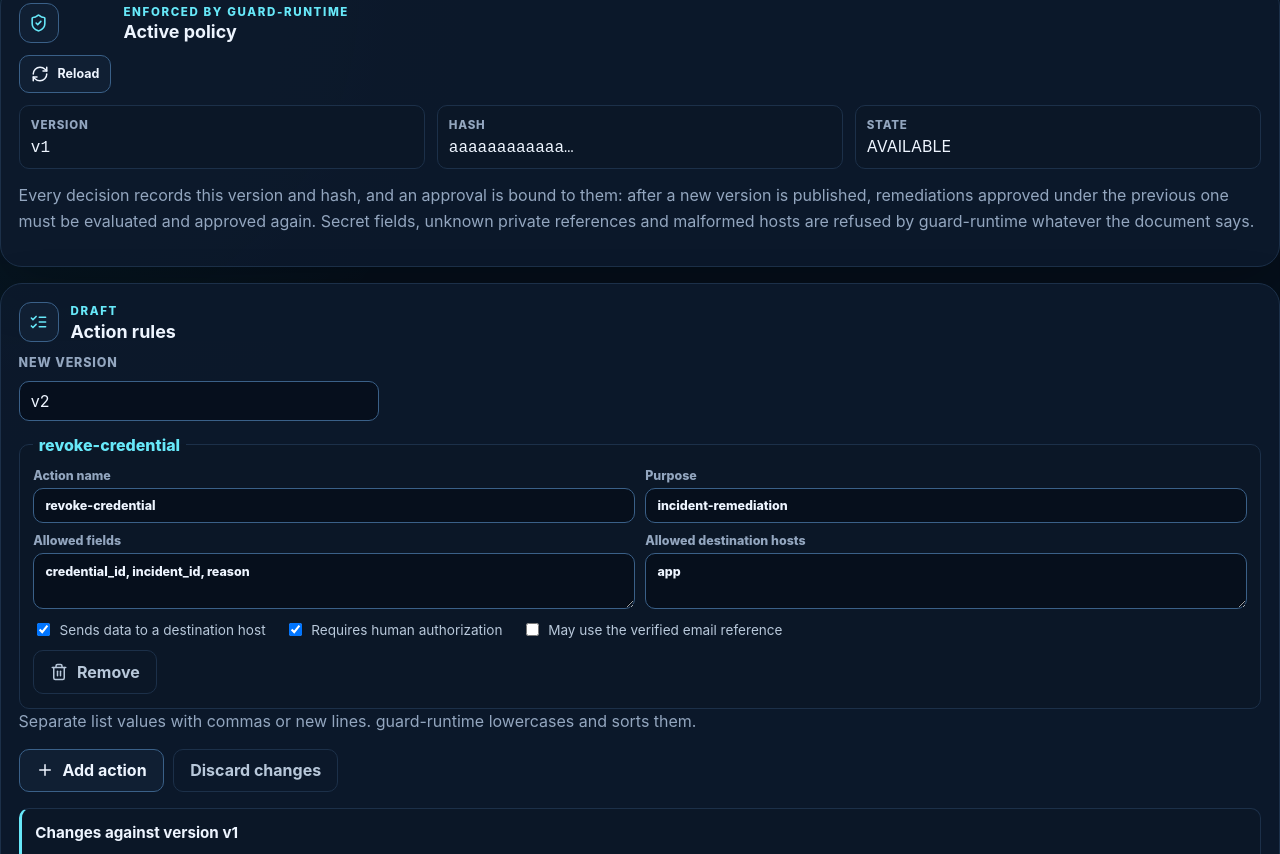
Test: PolicyEditor › shows the runtime reason when a change is refused
Step 1. Type ", api_key" into the text box labelled "Allowed fields" → (334, 581), box [33,553,635,609]
(page scrolled)
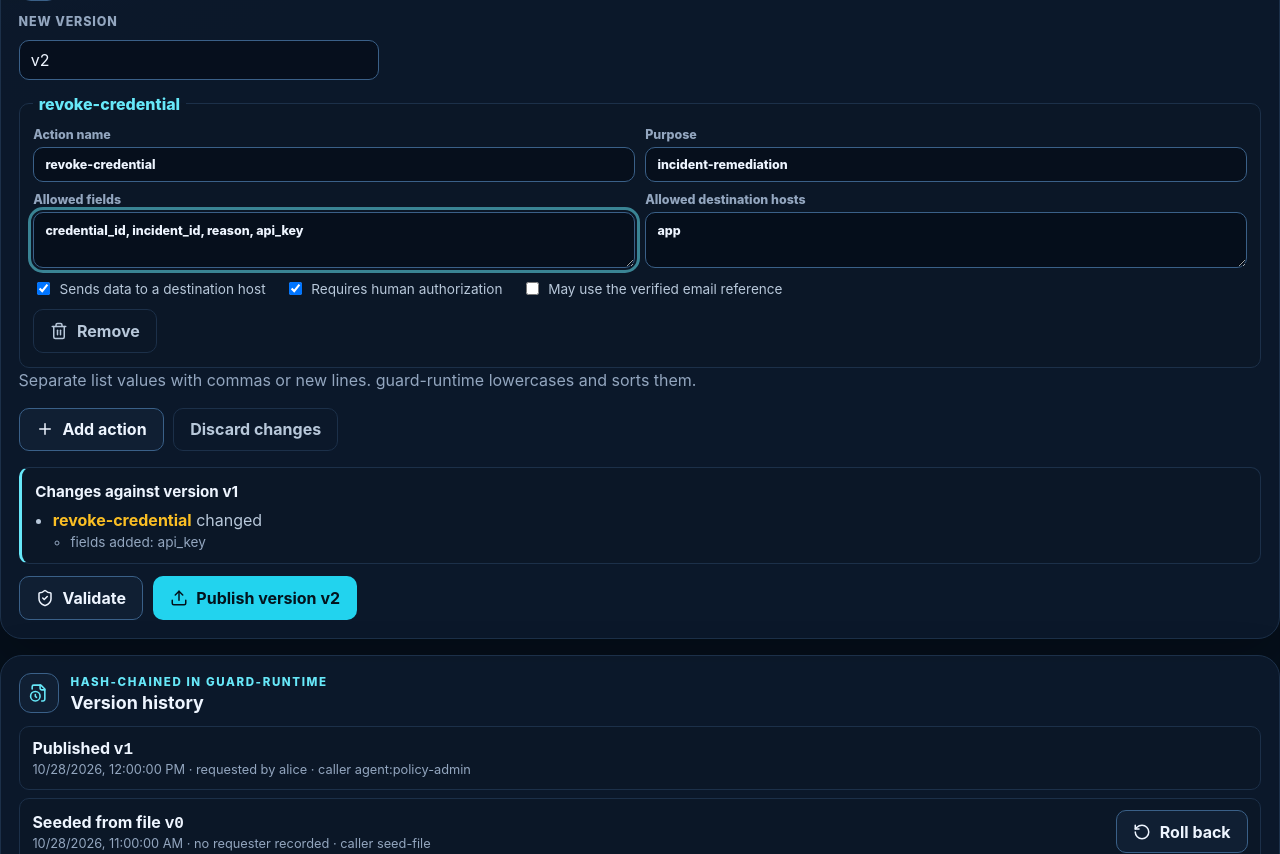
Step 2. Click the button "Validate" → click(81, 598), box [19,576,143,620]
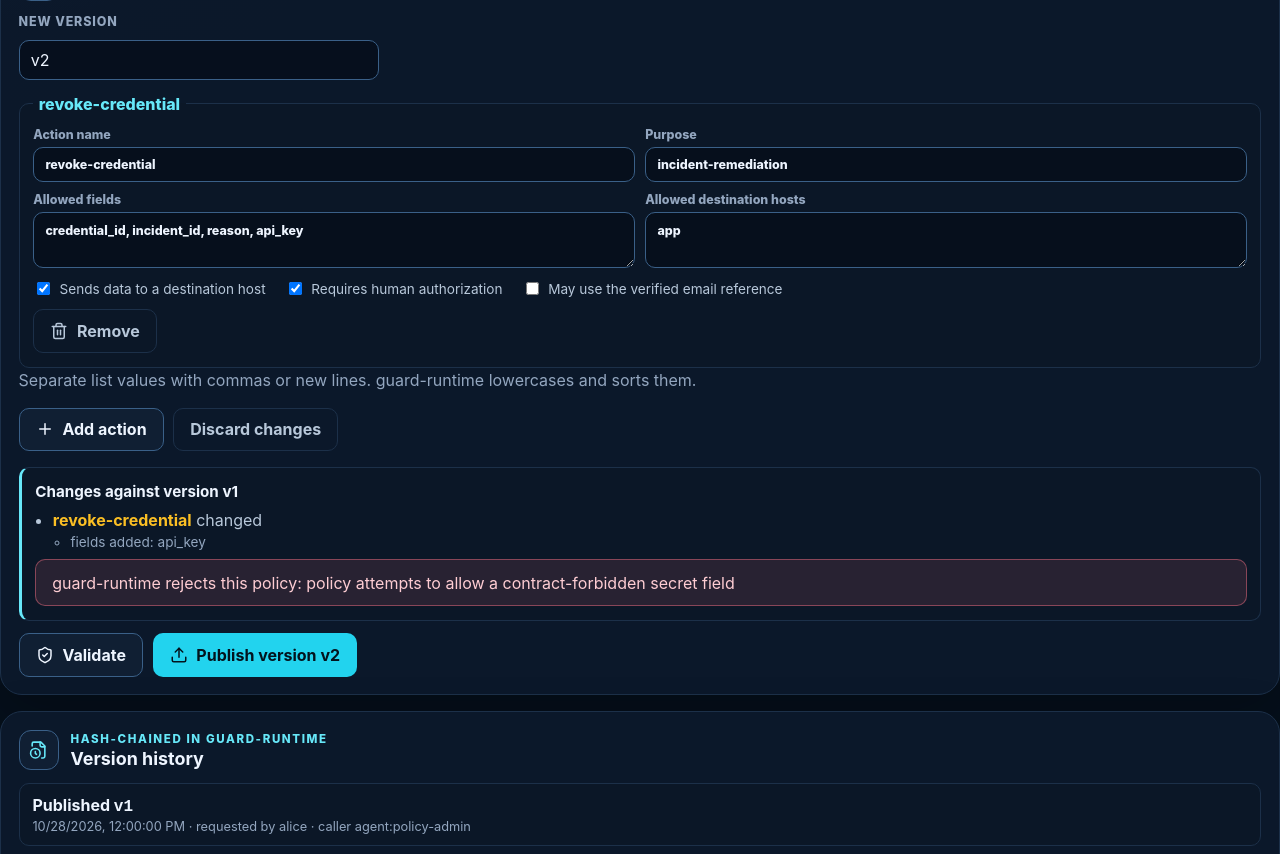
Check: the message shows "guard-runtime rejects this policy: policy attempts to allow a contract-forbidden secret field", box [35,559,1247,606]
